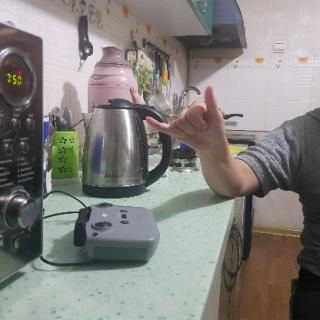YA: (145, 85, 233, 157)
